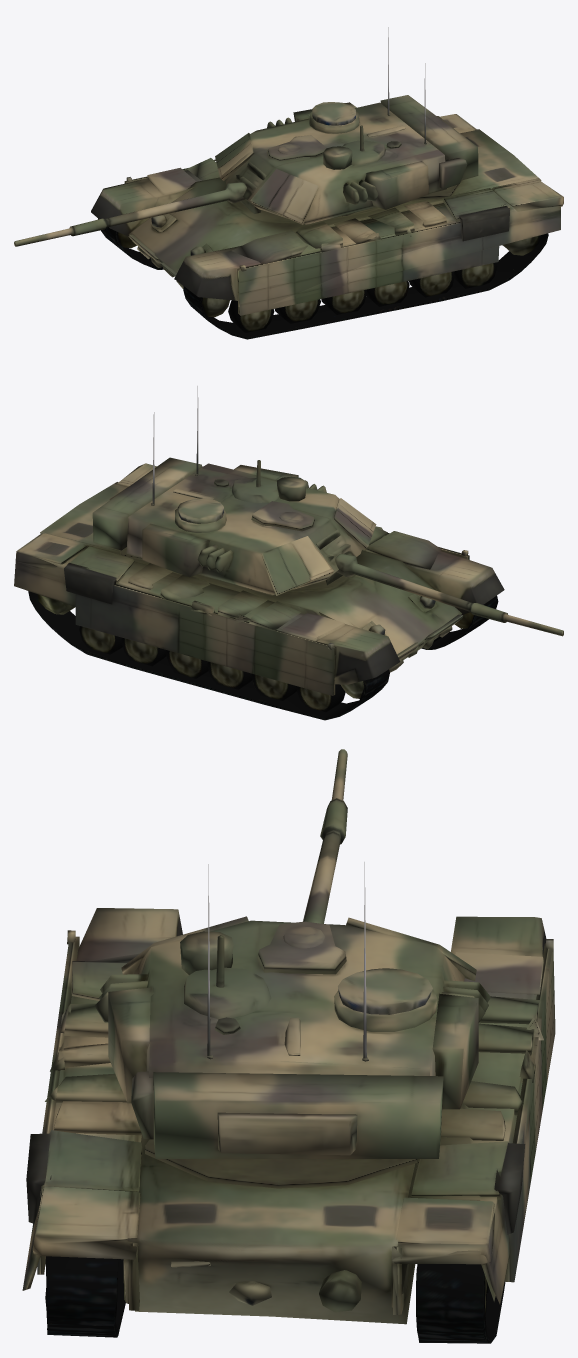
Rendered from cn-type-99a.glb.
3 renders of one model, top to bottom at view 1: azimuth 30°, elevation 25°; view 2: azimuth 150°, elevation 25°; view 3: azimuth 270°, elevation 25°, orthographic. The views are drawn at different scales.
Visible parts, largest first — view 1: geometry_0; view 2: geometry_0; view 3: geometry_0.
Part boxes in pixels (box(x1,y1,x2,y2)): geometry_0: box(14, 27, 563, 339); geometry_0: box(14, 386, 563, 720); geometry_0: box(22, 749, 555, 1343).
Bounding box in the file's own units: 1 × 0.4513 × 0.4833.
Materials: 1 (1 with a texture image).
